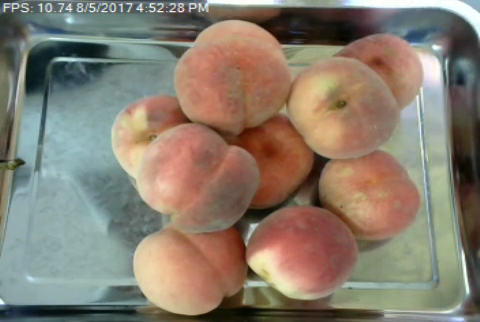Peach: (137, 122, 262, 231), (174, 19, 290, 133), (283, 61, 398, 160), (132, 222, 252, 314), (243, 204, 359, 299), (315, 151, 421, 242), (333, 31, 424, 110)
